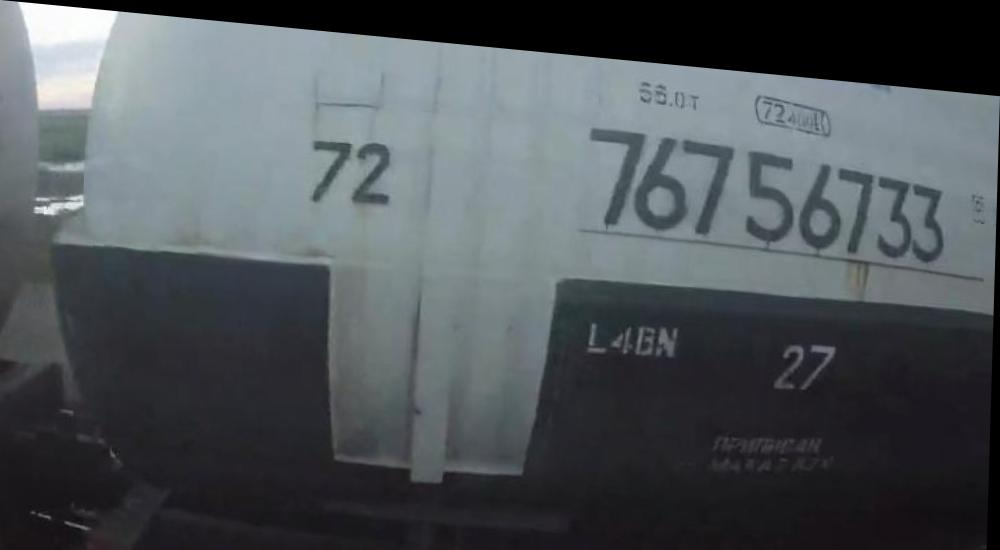Wagon-number: (585, 108, 955, 253)
